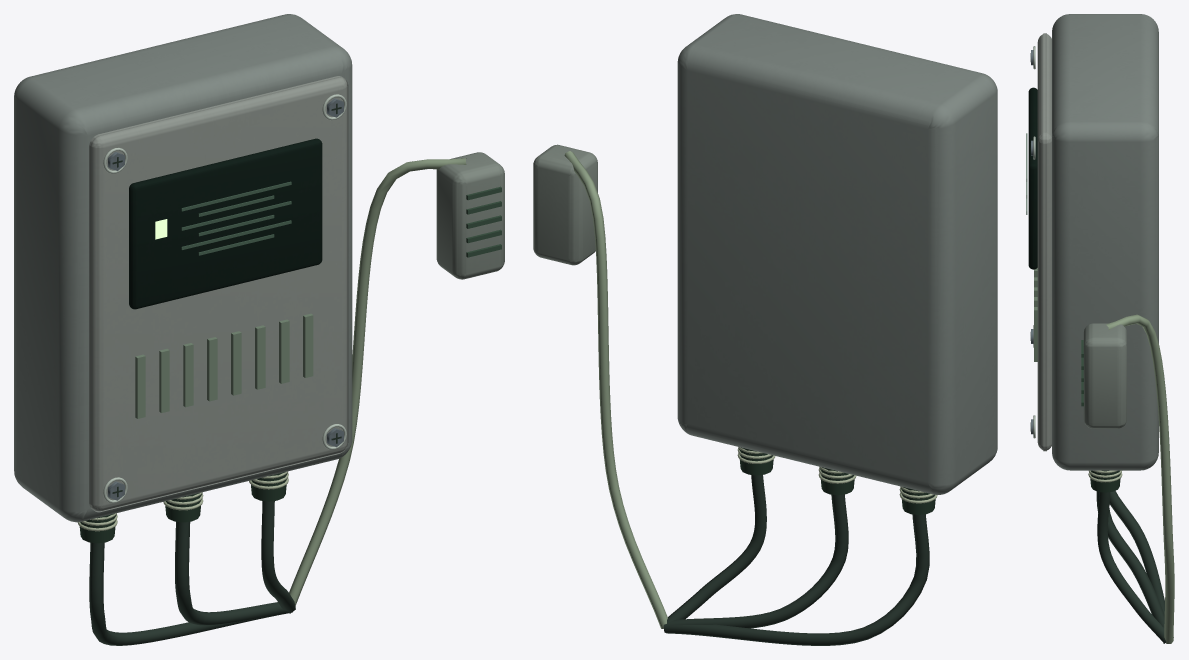
Rendered from controller.glb.
3 renders of one model, left to right at view 1: azimuth 30°, elevation 25°; view 2: azimuth 150°, elevation 25°; view 3: azimuth 270°, elevation 25°, orthographic. The views are drawn at different scales.
Parts seen in each view (by area): view 1: geo_4740_b2ebc0d9, geo_4740_a23271f9, geo_4740_c03e7a5d, geo_4740_308eb949, geo_24_2b9d3bb5 (×8), geo_203_ae6ec953, geo_203_dec24741, geo_203_38880fdf, geo_203_4966fac3; view 2: geo_4740_a23271f9, geo_4740_308eb949, geo_203_ae6ec953, geo_203_dec24741, geo_203_38880fdf, geo_203_4966fac3; view 3: geo_4740_a23271f9, geo_4740_b2ebc0d9, geo_4740_308eb949, geo_203_ae6ec953, geo_203_4966fac3, geo_4740_c03e7a5d, geo_203_38880fdf, geo_203_dec24741, geo_76_fee7d5c5.
Part boxes in pixels (x1,y1,x2,y2): geo_4740_b2ebc0d9: (89, 76, 348, 512); geo_4740_a23271f9: (14, 14, 352, 522); geo_4740_c03e7a5d: (129, 138, 322, 309); geo_4740_308eb949: (436, 152, 504, 279); geo_24_2b9d3bb5 (×8): (135, 313, 313, 418); geo_203_ae6ec953: (289, 158, 466, 605); geo_203_dec24741: (89, 542, 288, 645); geo_203_38880fdf: (175, 521, 293, 625); geo_203_4966fac3: (261, 501, 295, 613); geo_4740_a23271f9: (677, 14, 997, 494); geo_4740_308eb949: (533, 144, 597, 265); geo_203_ae6ec953: (564, 151, 667, 628); geo_203_dec24741: (663, 514, 929, 645); geo_203_38880fdf: (664, 494, 848, 628); geo_203_4966fac3: (667, 475, 766, 623); geo_4740_a23271f9: (1052, 14, 1158, 470); geo_4740_b2ebc0d9: (1037, 33, 1051, 451); geo_4740_308eb949: (1083, 323, 1126, 428); geo_203_ae6ec953: (1106, 314, 1174, 643); geo_203_4966fac3: (1097, 492, 1166, 643); geo_4740_c03e7a5d: (1028, 87, 1037, 269); geo_203_38880fdf: (1096, 491, 1164, 643); geo_203_dec24741: (1109, 491, 1164, 614); geo_76_fee7d5c5: (1090, 470, 1120, 492).
Bounding box in the file's own units: 1.34 × 1.71 × 0.4435.
Materials: 42 (8 with a texture image).
